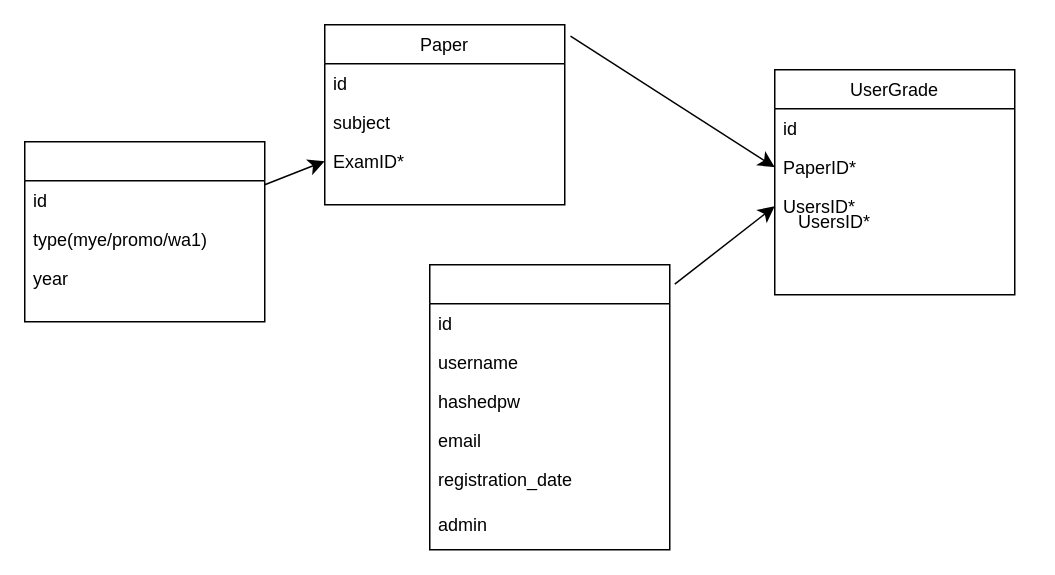
This 1055x575 diagram has some shape labels left out. Here are the shapes that lost their labels. From the top down, the box of each, then its label:
(23, 140, 265, 322): Exam
(428, 263, 670, 550): Users
